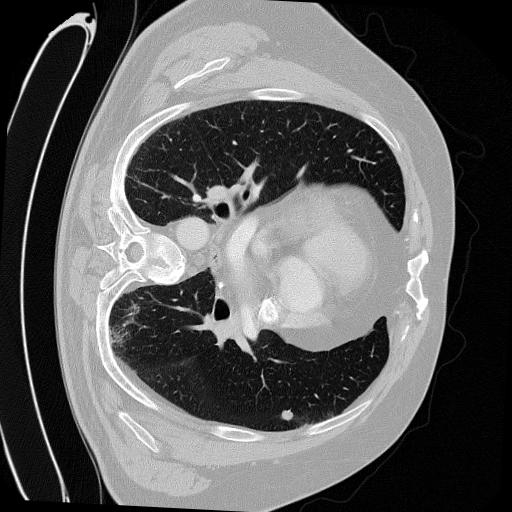nodule: (280, 410, 296, 426)
